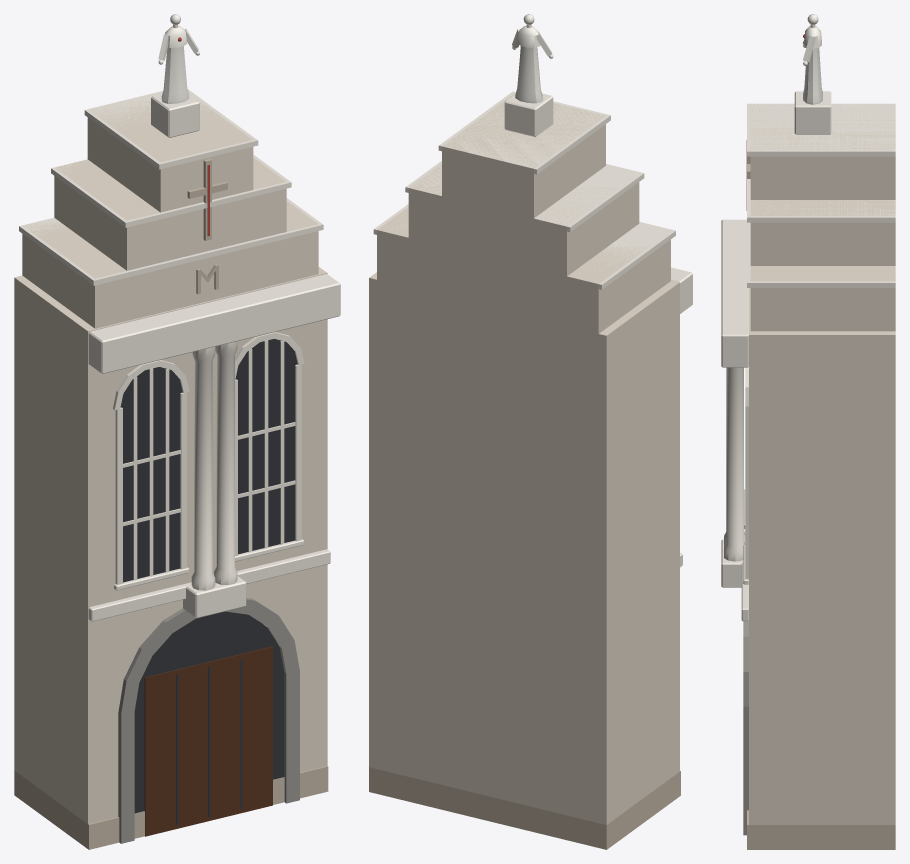
Rendered from fachada_portal.glb.
3 renders of one model, left to right at view 1: azimuth 30°, elevation 25°; view 2: azimuth 150°, elevation 25°; view 3: azimuth 270°, elevation 25°, orthographic.
Visible parts, largest first — view 1: fachada_portal; view 2: fachada_portal; view 3: fachada_portal.
Boxes of the visible parts, left/top/right/bottom form: fachada_portal: left=14, top=14, right=340, bottom=849; fachada_portal: left=369, top=14, right=692, bottom=849; fachada_portal: left=721, top=14, right=895, bottom=849.
Bounding box in the file's own units: 3 × 9.36 × 1.9.
